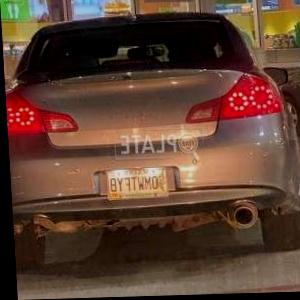License_Plate: (104, 165, 171, 205)
